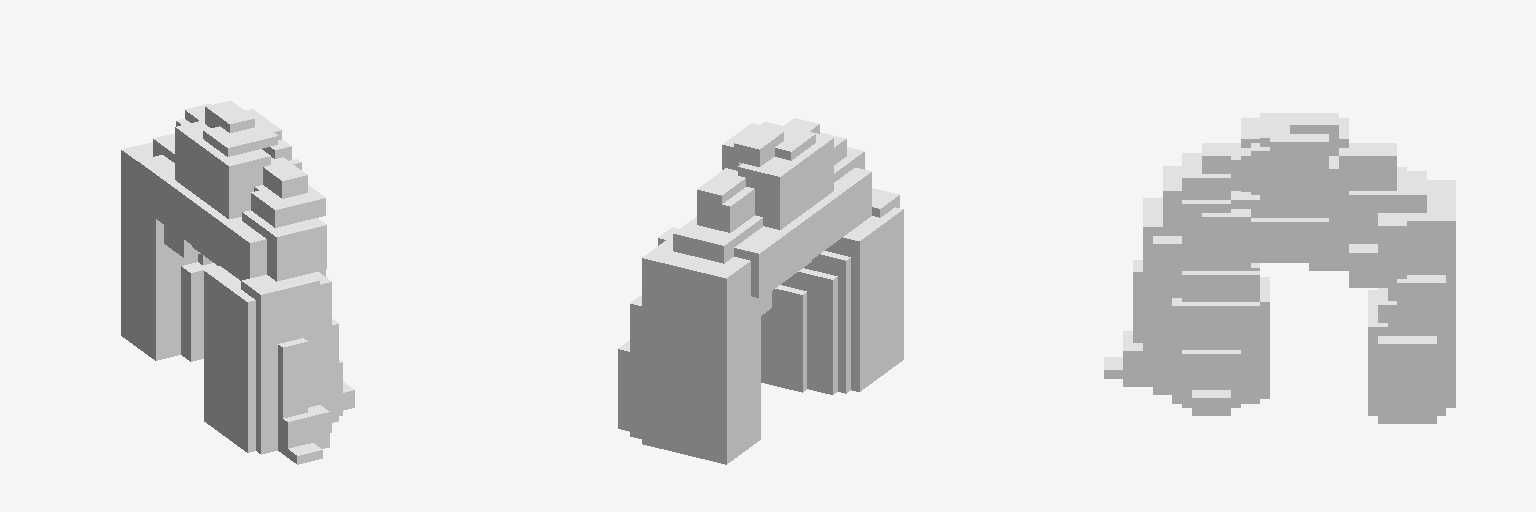
The model's file is cave1.obj.
3 views of the same model, side by side, from view 1: azimuth 30°, elevation 25°; view 2: azimuth 150°, elevation 25°; view 3: azimuth 270°, elevation 25° (orthographic).
Bounding box in the file's own units: 17 × 30 × 36.